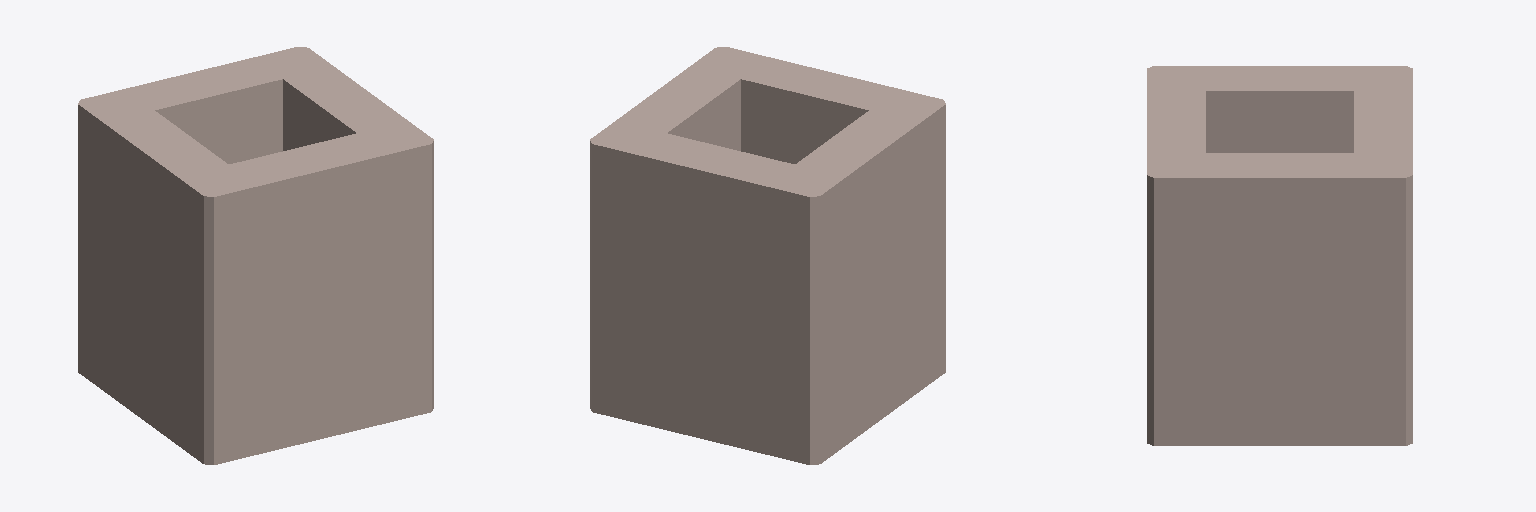
Rendered from Prop_Fireplace_Mid.obj.
3 renders of one model, left to right at view 1: azimuth 30°, elevation 25°; view 2: azimuth 150°, elevation 25°; view 3: azimuth 270°, elevation 25°, orthographic.
Visible parts, largest first — view 1: object1; view 2: object1; view 3: object1.
Part boxes in pixels (left/top/right/bottom): object1: left=78, top=47, right=433, bottom=464; object1: left=590, top=47, right=945, bottom=464; object1: left=1147, top=66, right=1412, bottom=445.
Bounding box in the file's own units: 0.9 × 1 × 0.9.